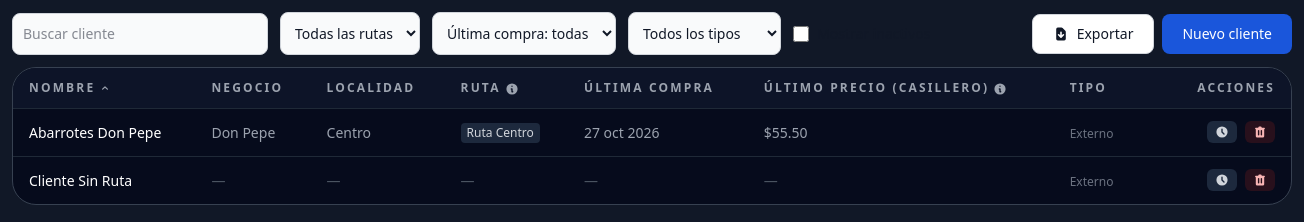
ClientsTab › filtra clientes sin ruta
This screenshot has width=1304, height=222.
Select "Sin ruta" in the 1st dropdown named "Filtrar por ruta" at (350, 34), box left=280, top=12, right=420, bottom=55
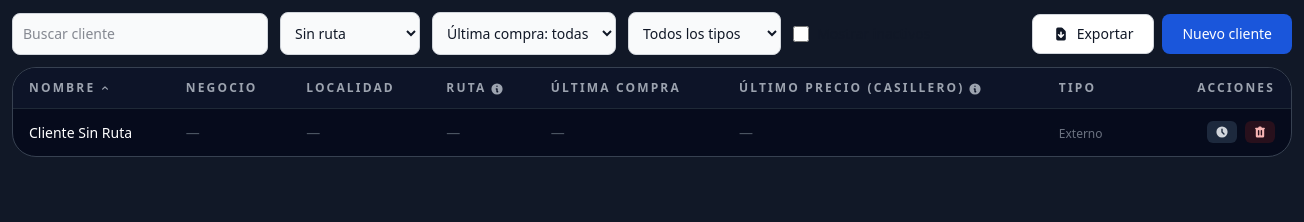
Check: the text "Cliente Sin Ruta" is shown, box left=29, top=122, right=132, bottom=142
Check: the text "Abarrotes Don Pepe" is gone
